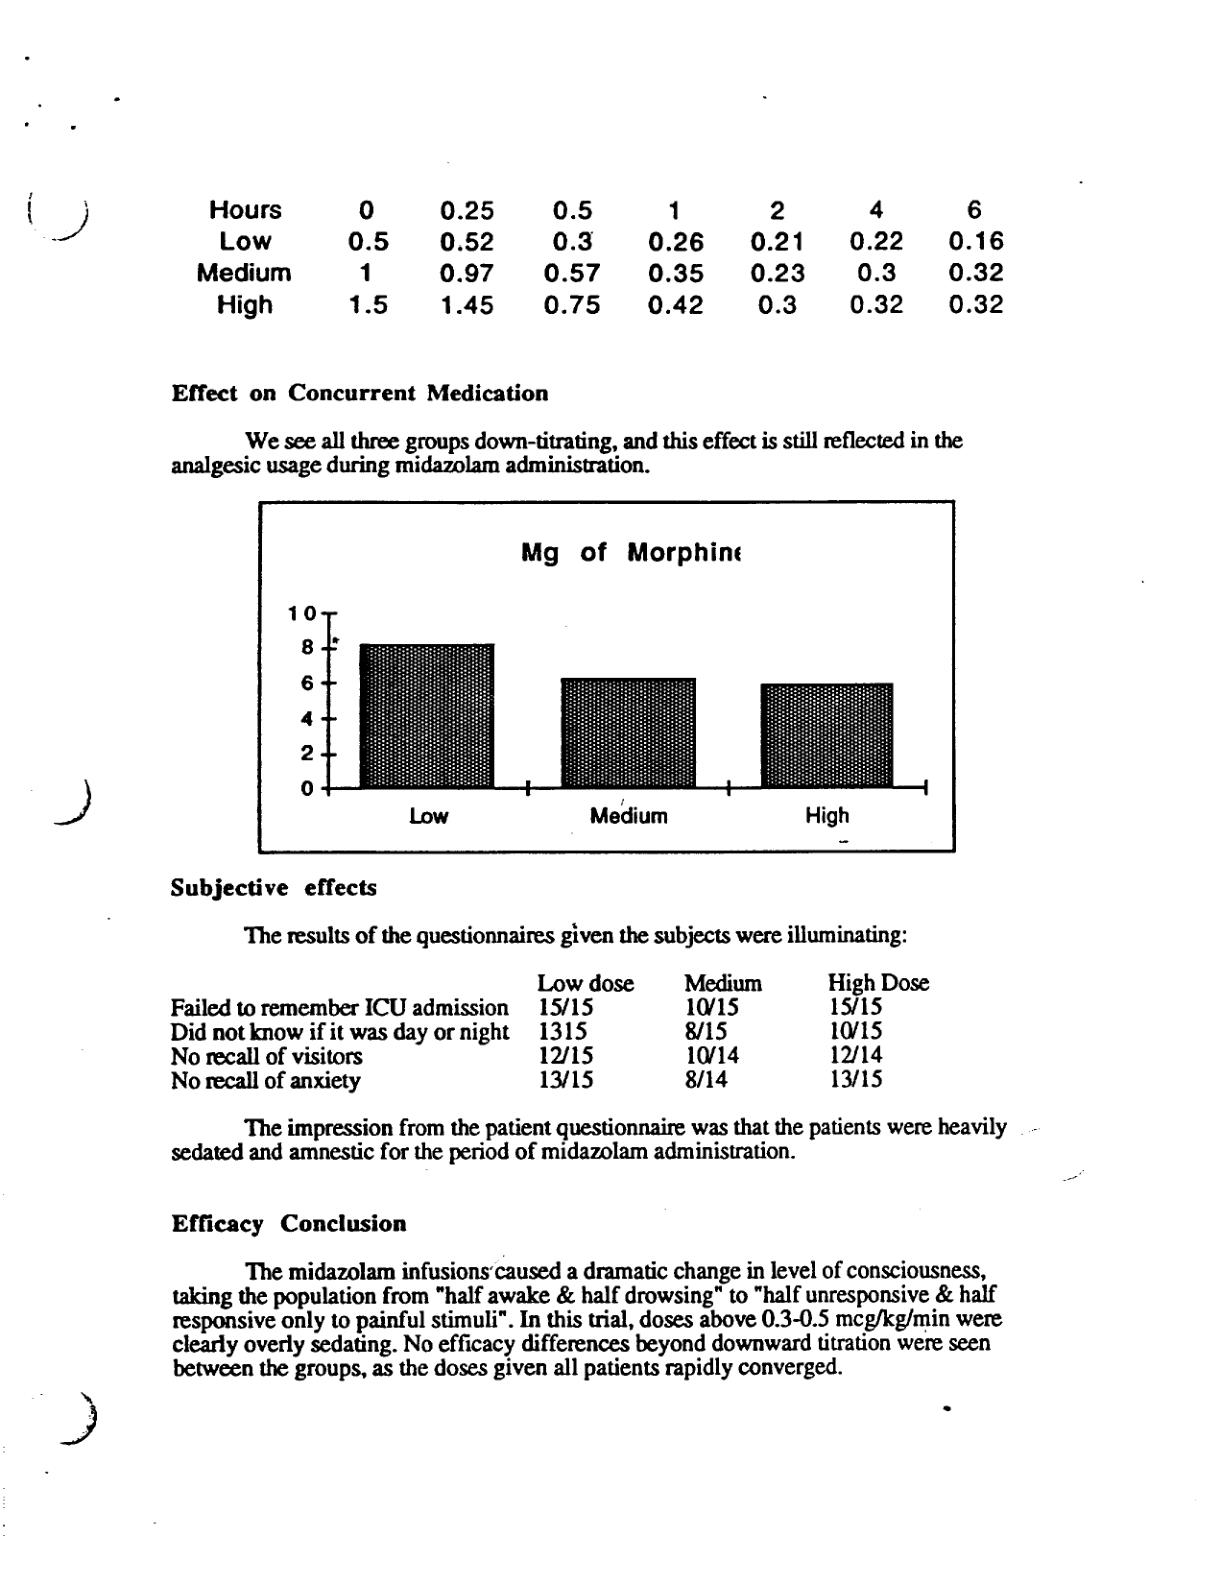nolines: (191, 197, 1006, 319), (168, 968, 932, 1093)
